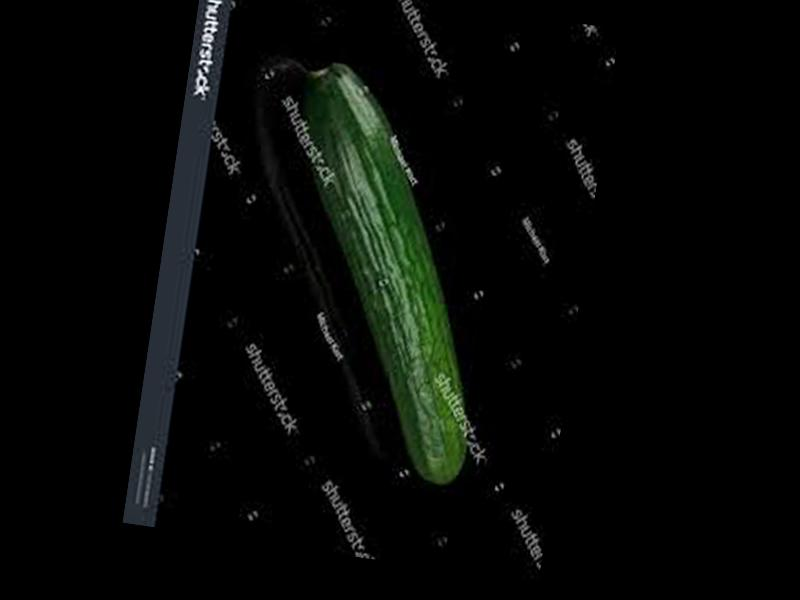Cucumber: (245, 58, 520, 490)
